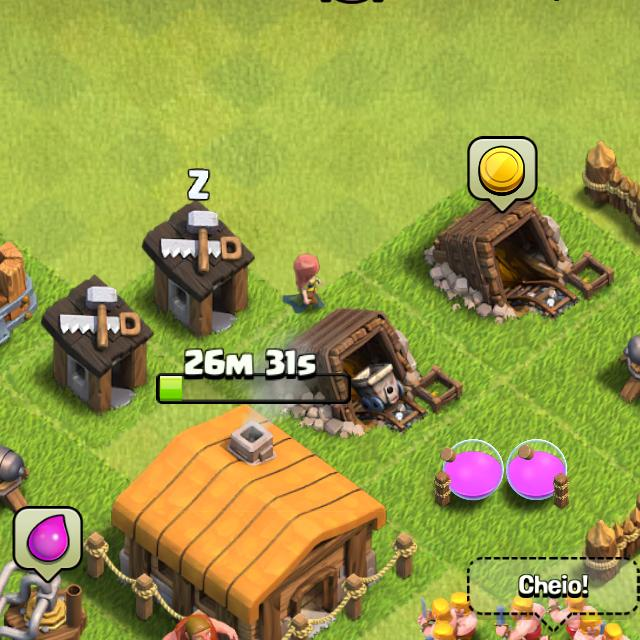Elixir: (12, 504, 82, 584)
coin: (469, 135, 539, 214)
